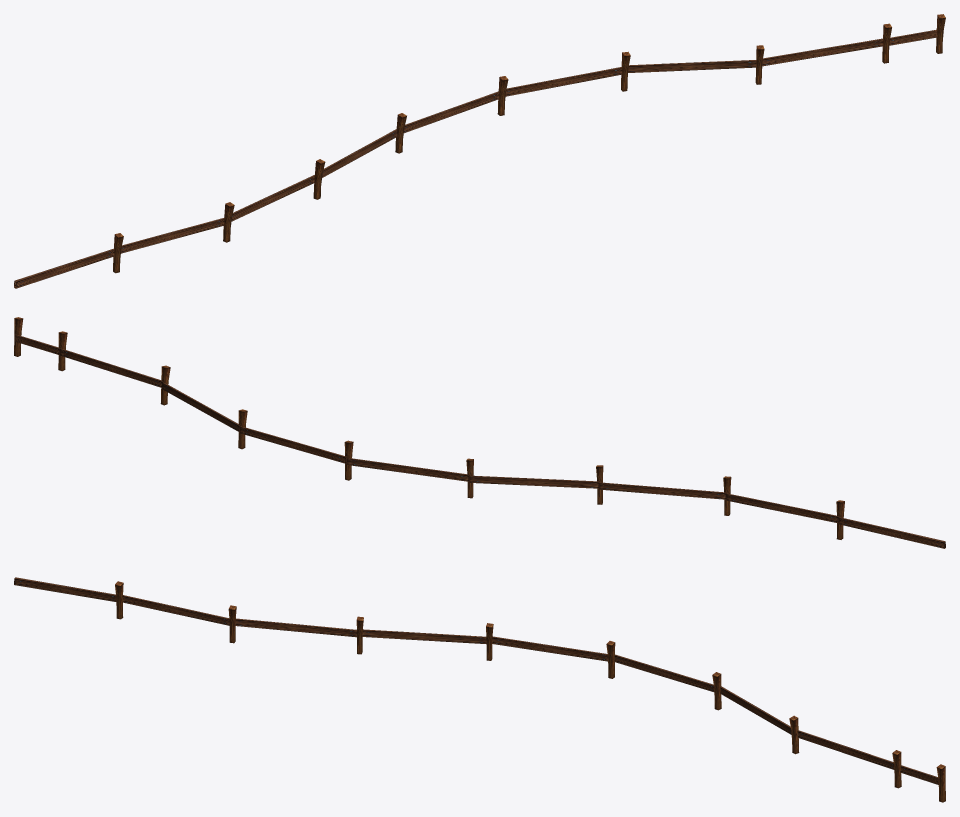
File: EKH_ENTRANCE_PS_EN_FENCE_4746__GX.fbx
3 renders of one model, top to bottom at view 1: azimuth 30°, elevation 25°; view 2: azimuth 150°, elevation 25°; view 3: azimuth 330°, elevation 25°, orthographic. The views are drawn at different scales.
Parts seen in each view (by area): view 1: EKH_ENTRANCE_PS_EN_FENCE_4746__GX; view 2: EKH_ENTRANCE_PS_EN_FENCE_4746__GX; view 3: EKH_ENTRANCE_PS_EN_FENCE_4746__GX.
Part boxes in pixels (x1,y1,x2,y2): EKH_ENTRANCE_PS_EN_FENCE_4746__GX: (14, 14, 945, 288); EKH_ENTRANCE_PS_EN_FENCE_4746__GX: (14, 317, 945, 548); EKH_ENTRANCE_PS_EN_FENCE_4746__GX: (14, 577, 945, 802).
Size of the model in its own units: 265414 by 10209 by 34482.
Materials: 3 (3 with a texture image).
